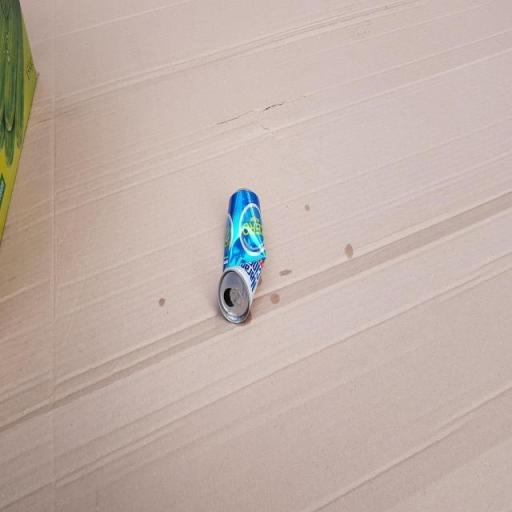metal: (214, 179, 286, 372)
